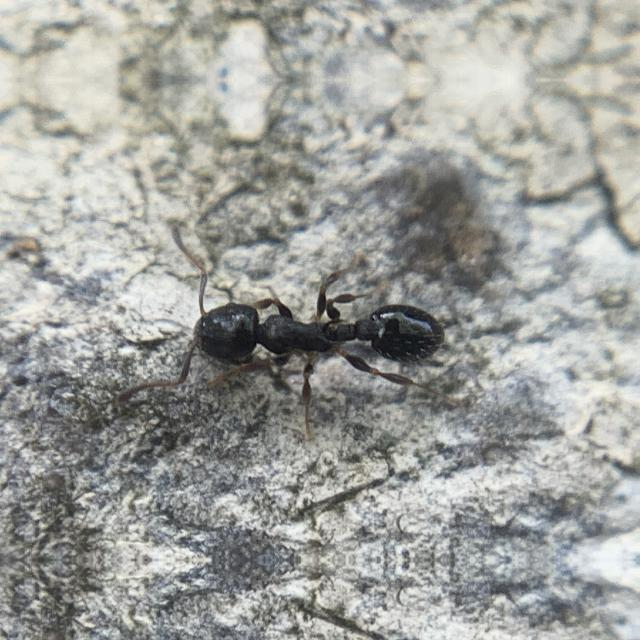Tetramorium: (140, 254, 493, 421)
